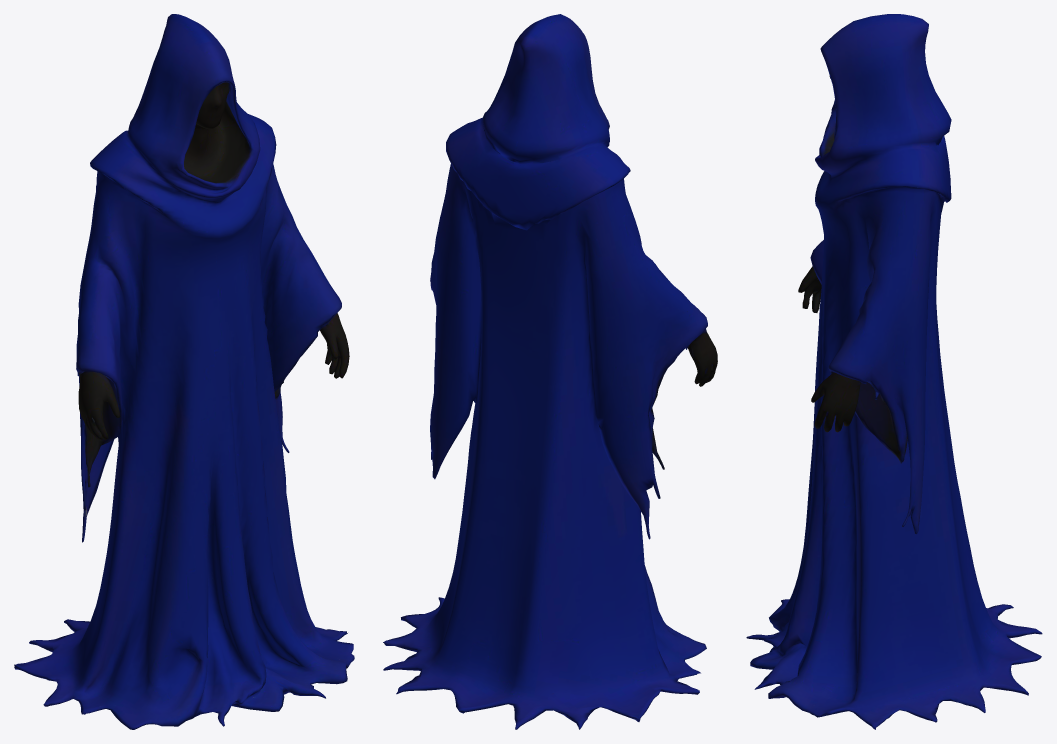
The model's file is shade_tripo.glb.
The picture shows the model from 3 angles, left to right: view 1: azimuth 30°, elevation 25°; view 2: azimuth 150°, elevation 25°; view 3: azimuth 270°, elevation 25°; orthographic projection.
Parts seen in each view (by area): view 1: hooded wraith 3d model; view 2: hooded wraith 3d model; view 3: hooded wraith 3d model.
Boxes of the visible parts, x1,y1,x2,y2 form: hooded wraith 3d model: [14, 14, 354, 729]; hooded wraith 3d model: [383, 14, 717, 729]; hooded wraith 3d model: [746, 14, 1042, 729].
Size of the model in its own units: 0.479 by 0.9775 by 0.4075.
1 material, 1 textured.
